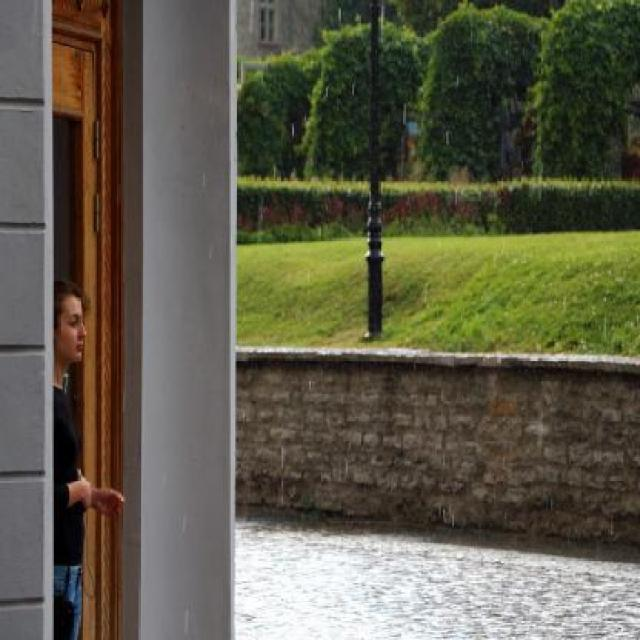Person: (54, 282, 126, 640)
